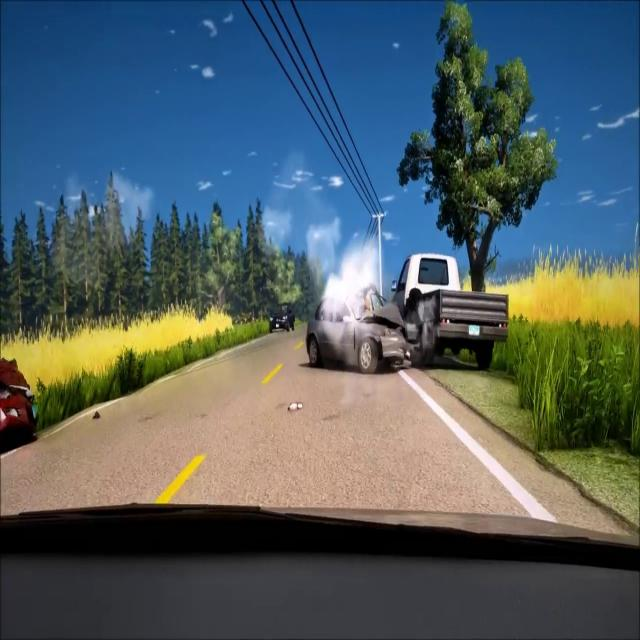accident: (306, 248, 509, 377)
